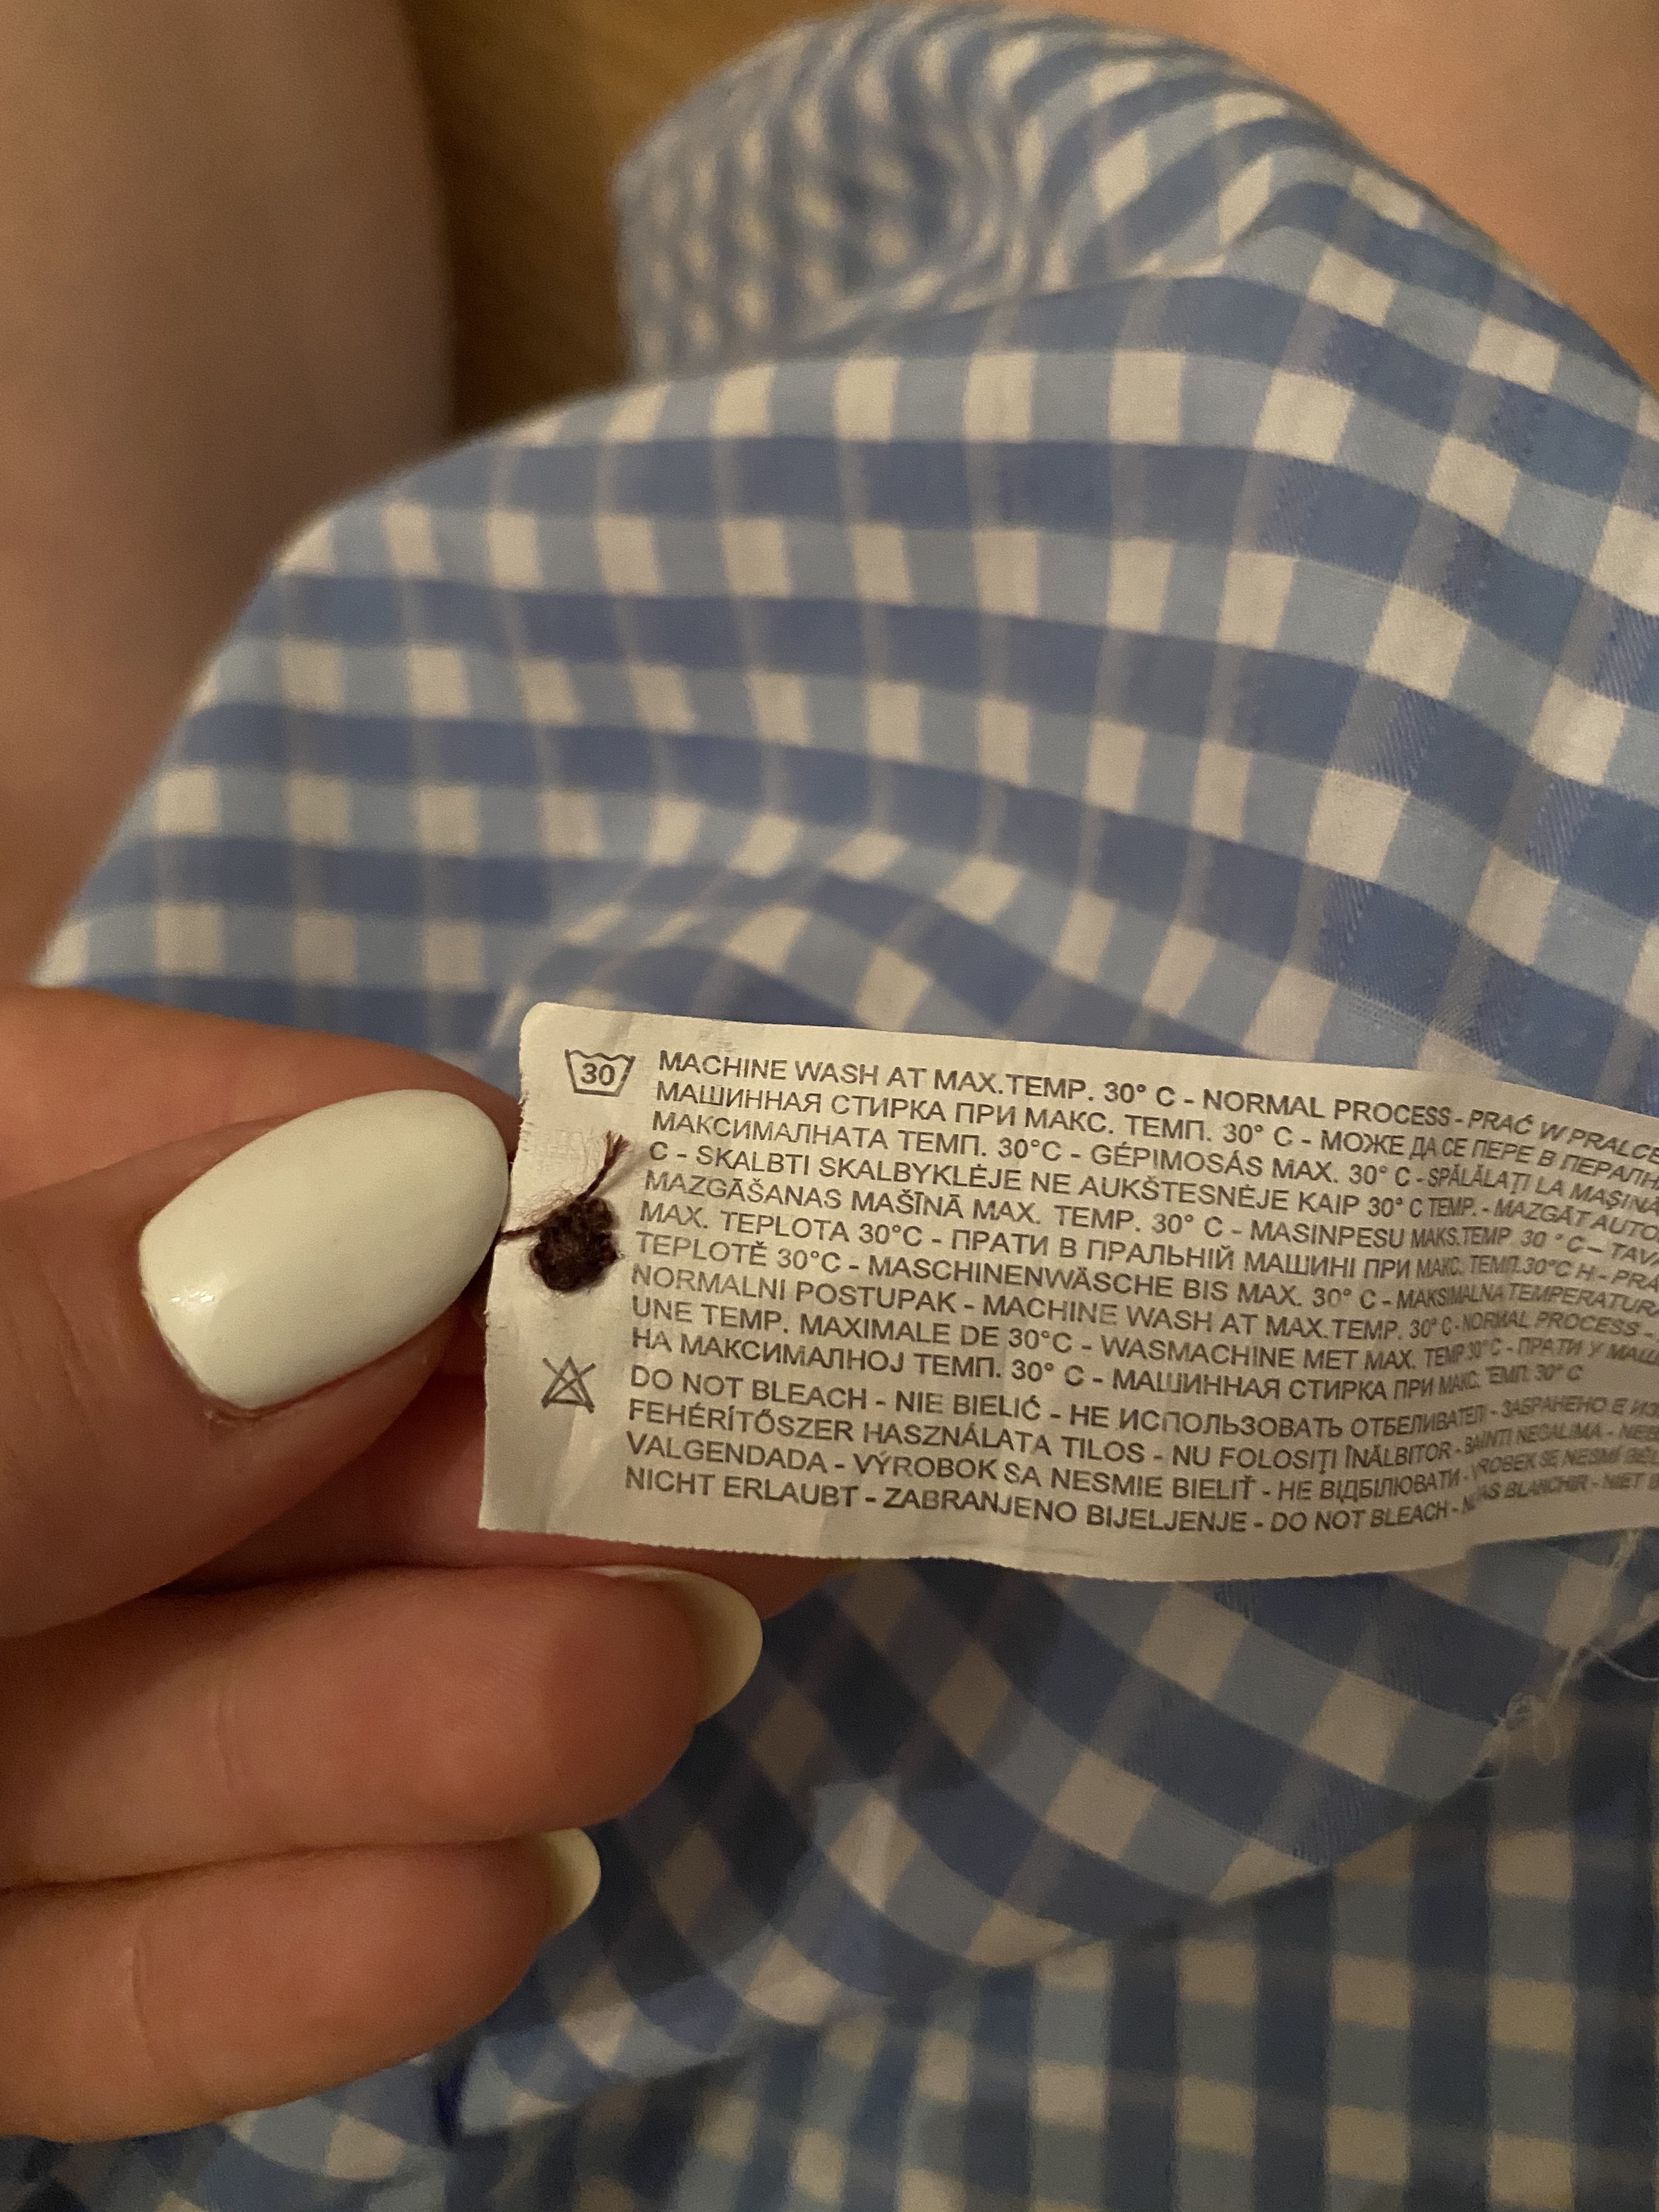do_not_bleach: (535, 1350, 605, 1423)
wash_at_or_below_30: (558, 1042, 638, 1109)
